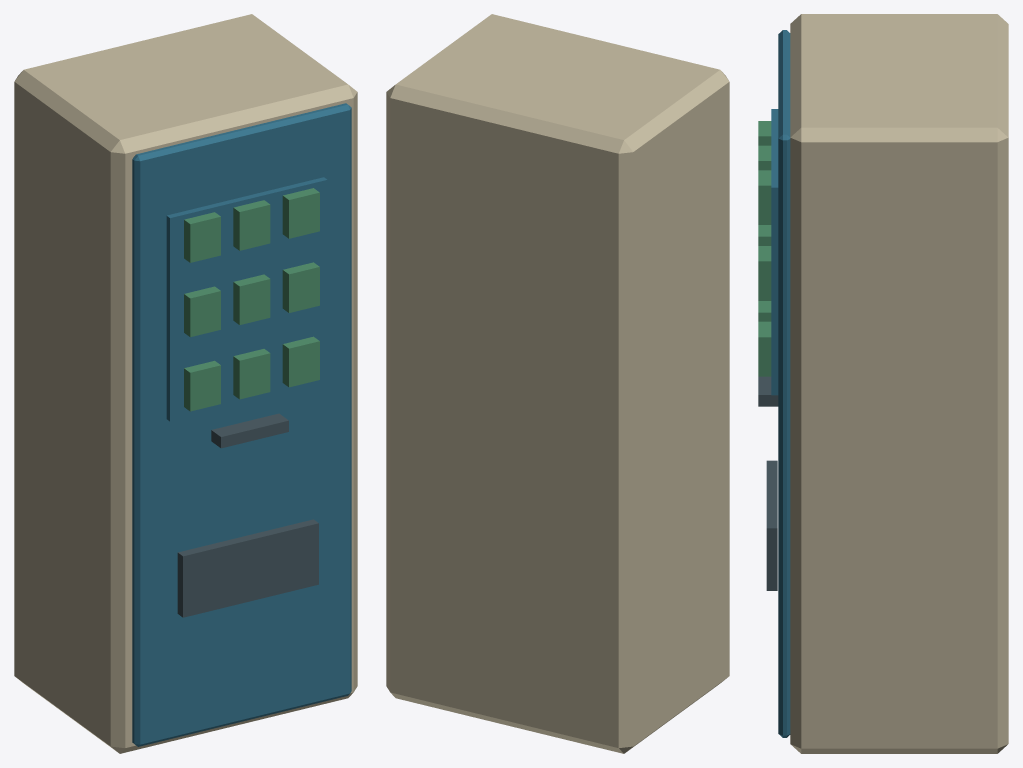
File: drinks_vending.glb
The picture shows the model from 3 angles, left to right: view 1: azimuth 30°, elevation 25°; view 2: azimuth 150°, elevation 25°; view 3: azimuth 270°, elevation 25°; orthographic projection. The views are drawn at different scales.
Parts seen in each view (by area): view 1: drinks_vending; view 2: drinks_vending; view 3: drinks_vending.
Boxes of the visible parts, <box> form: drinks_vending: <box>14,14,357,753</box>; drinks_vending: <box>386,14,729,753</box>; drinks_vending: <box>758,14,1008,753</box>.
Size of the model in its own units: 0.8 by 1.9 by 0.6875.
